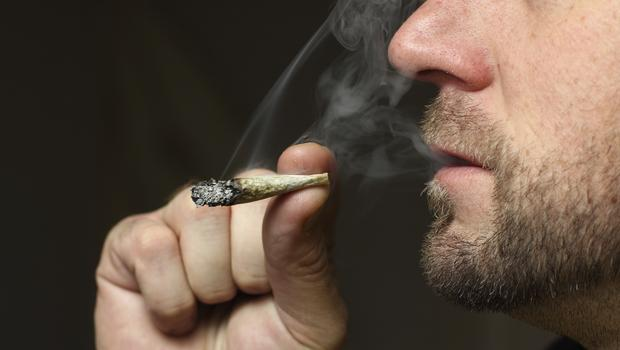cigarette: (180, 163, 348, 215)
